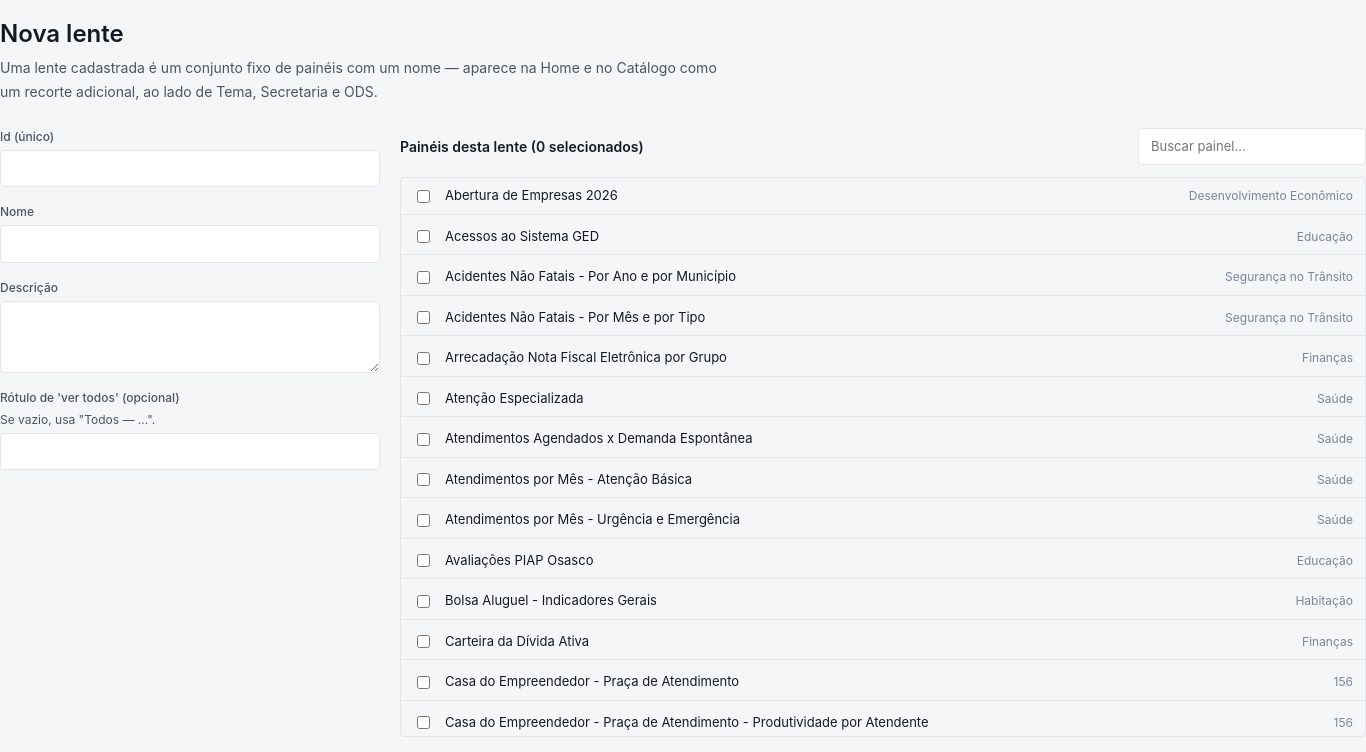
Scenario: LensEditorPage › bloqueia salvar sem nenhum painel selecionado e mostra o erro
Type "prioridade-2026" into the field labelled "Id (único)" at (190, 169), box [0, 150, 380, 187]
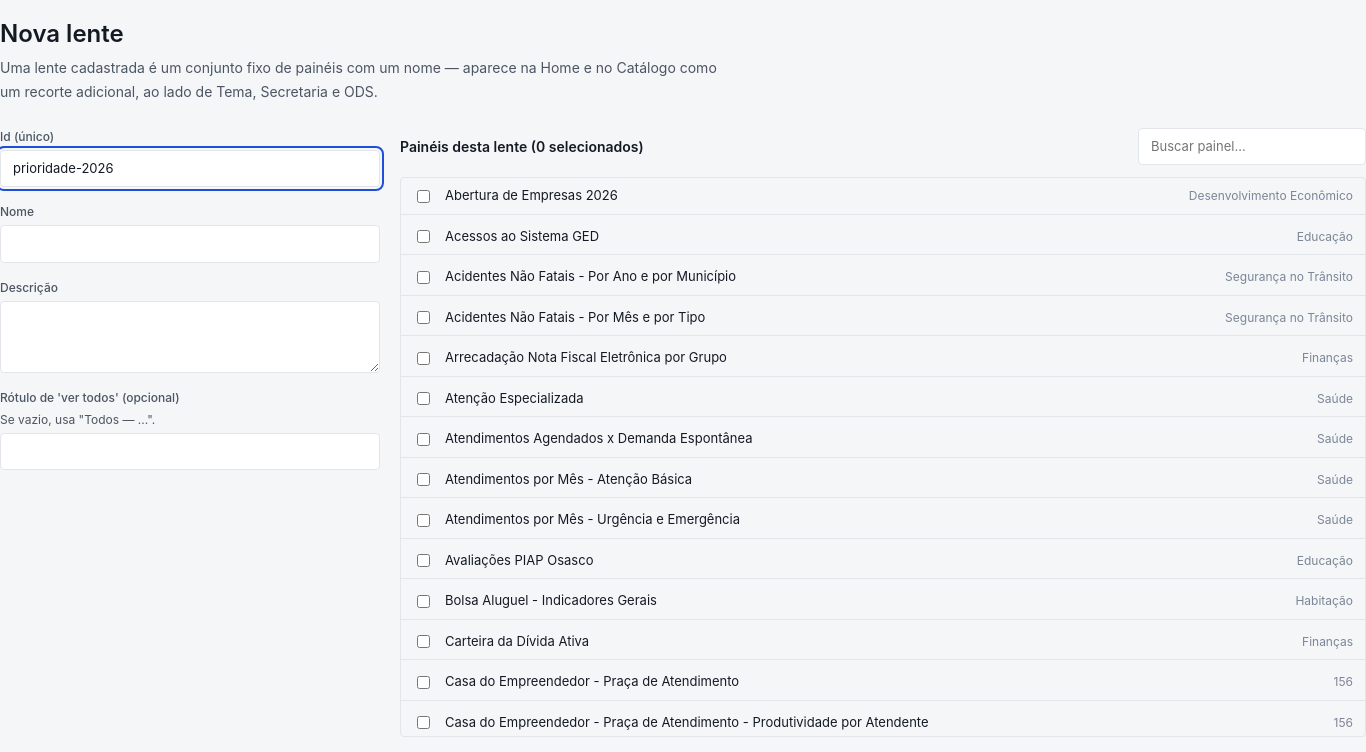
Type "Prioridade 2026" into the field labelled "Nome" at (190, 244), box [0, 225, 380, 263]
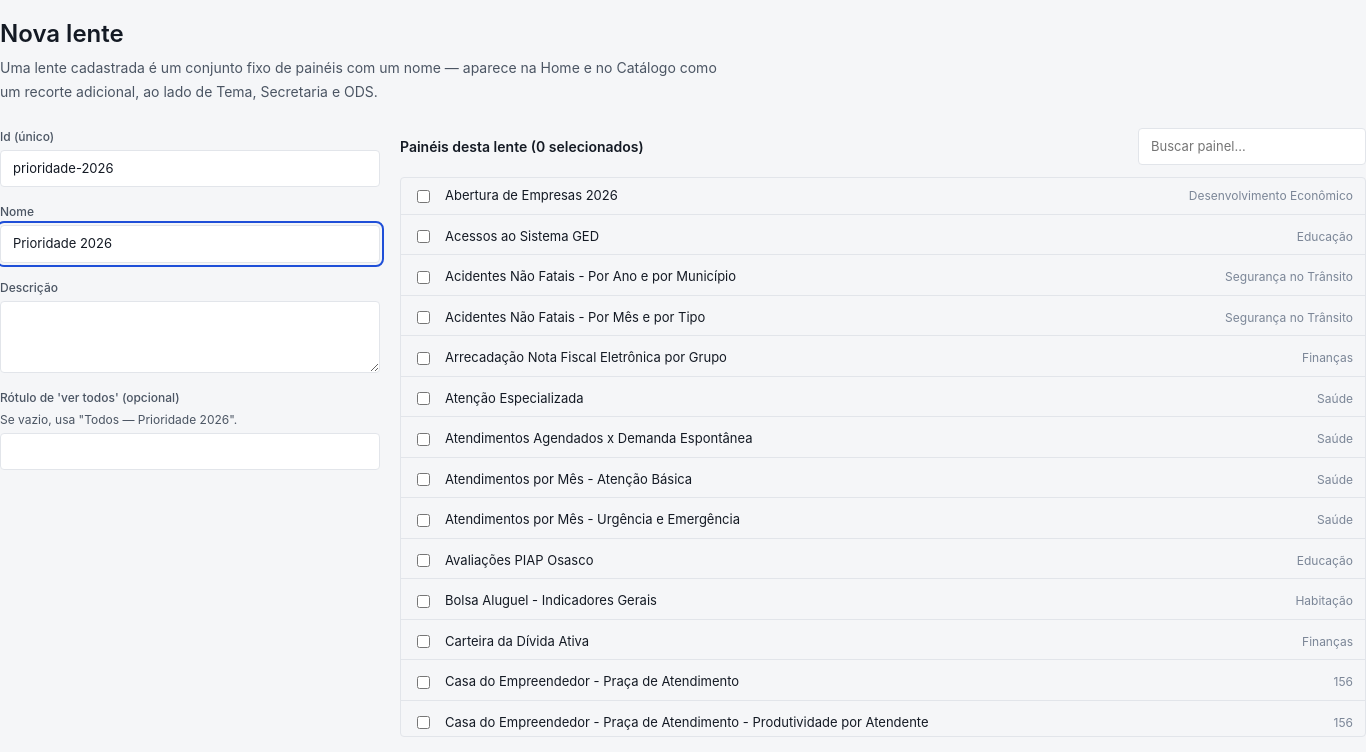
Type "Painéis prioritários do plano de governo." into the text box labelled "Descrição" at (190, 337), box [0, 301, 380, 373]
(page scrolled)
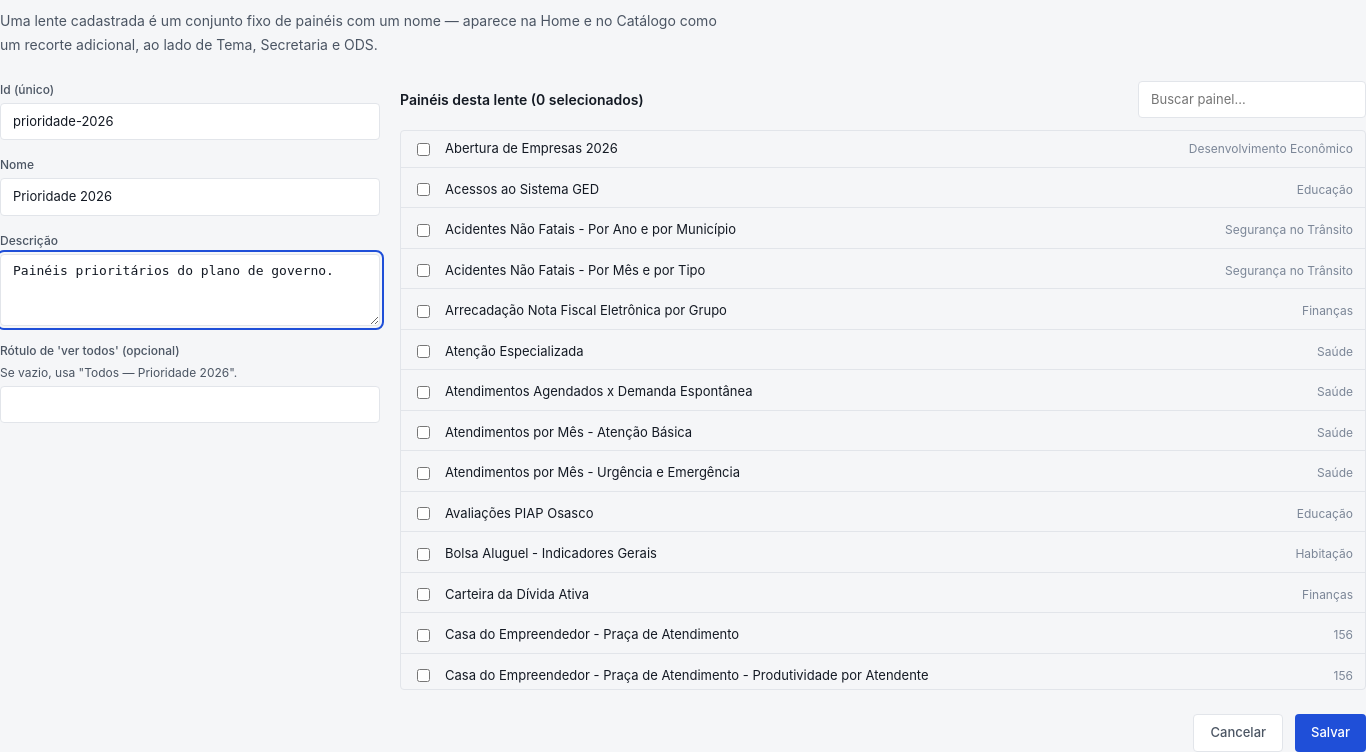
Click the button "Salvar" at (1330, 733), box [1295, 714, 1365, 751]
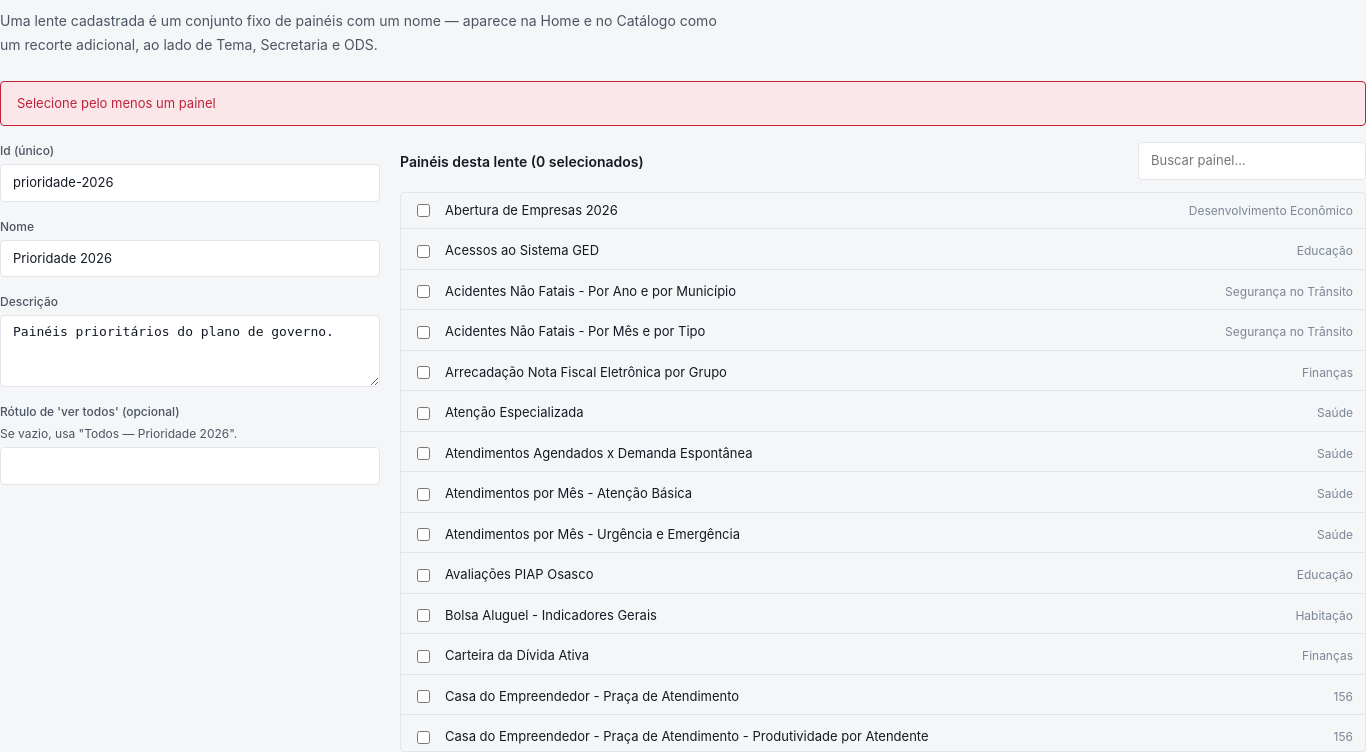
Now the message reads "Selecione pelo menos um painel", box [17, 95, 216, 111]
